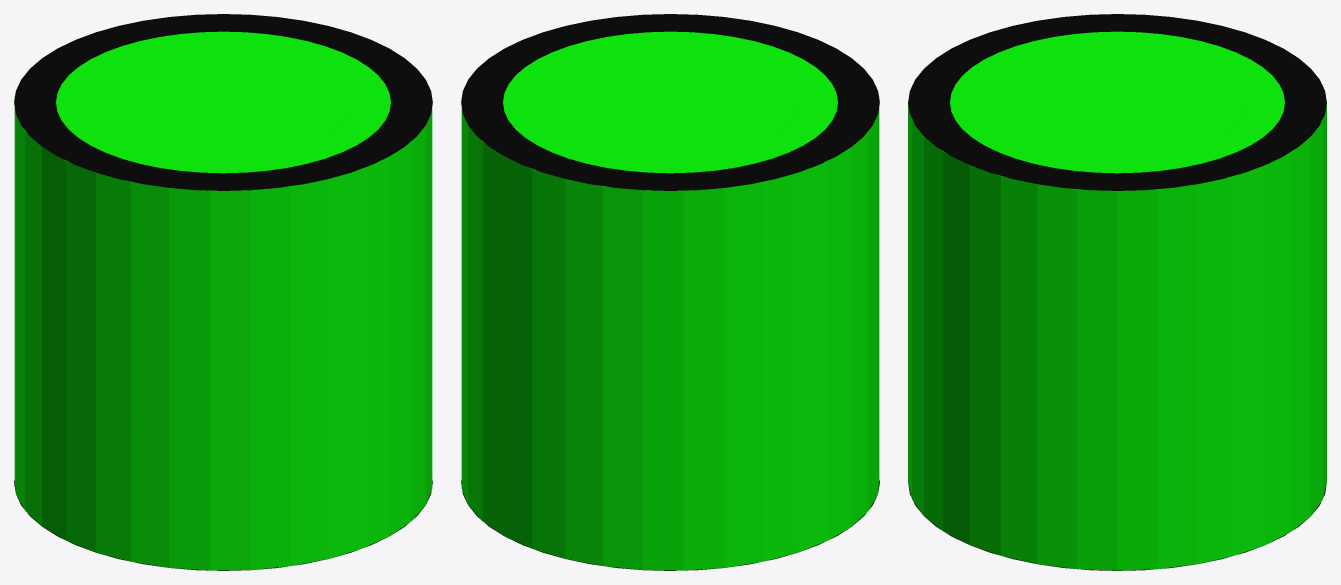
Rendered from Cylinder_green.glb.
3 views of the same model, side by side, from view 1: azimuth 30°, elevation 25°; view 2: azimuth 150°, elevation 25°; view 3: azimuth 270°, elevation 25° (orthographic).
Parts seen in each view (by area): view 1: Cylinder, Torus.001; view 2: Cylinder, Torus.001; view 3: Cylinder, Torus.001.
Boxes of the visible parts, x1,y1,x2,y2 form: Cylinder: (14,49,432,570); Torus.001: (14,14,432,190); Cylinder: (461,49,879,570); Torus.001: (461,14,879,190); Cylinder: (908,49,1326,570); Torus.001: (908,14,1326,190).
Bounding box in the file's own units: 2 × 2 × 2.
